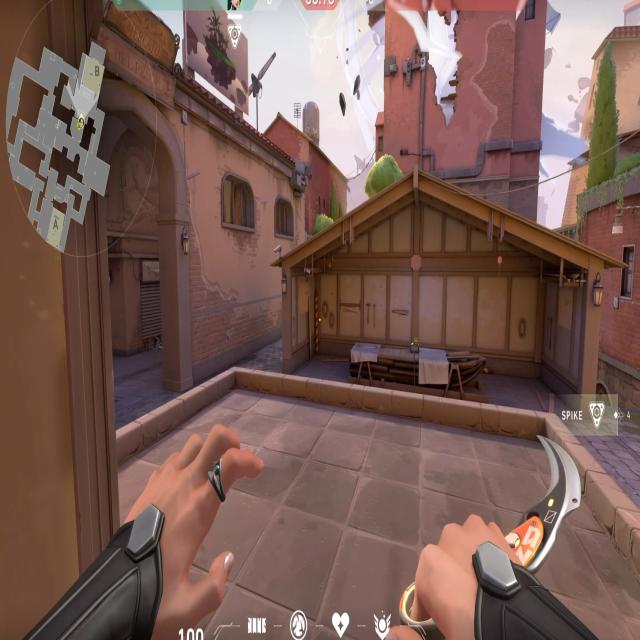B_Garage_Left: (280, 266, 372, 376)
B_Garage_Right: (468, 270, 605, 415)
Throwables: (220, 171, 257, 236), (275, 193, 296, 240)
